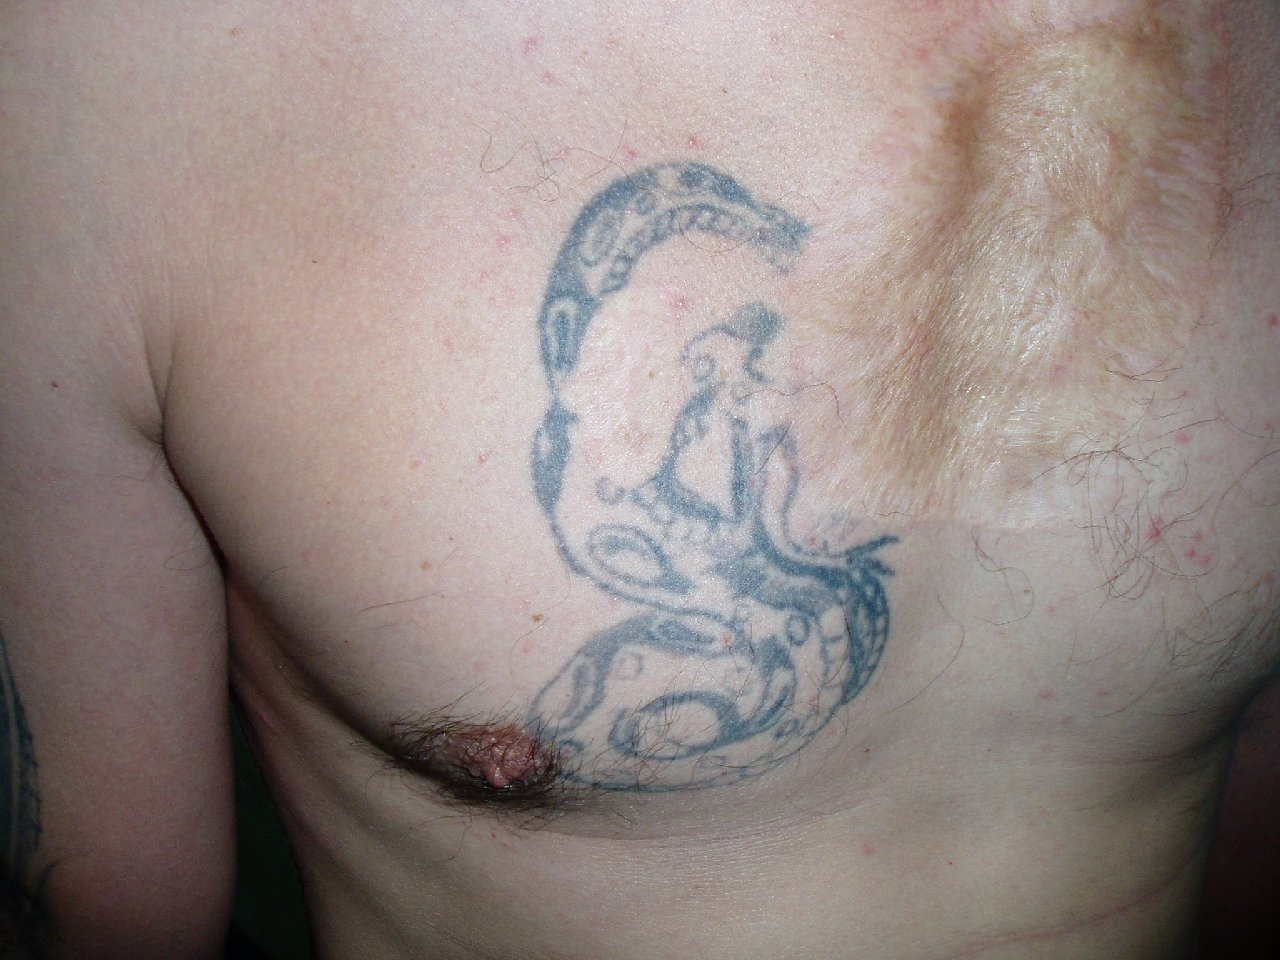tatu7_zmeya: (459, 102, 930, 868)
